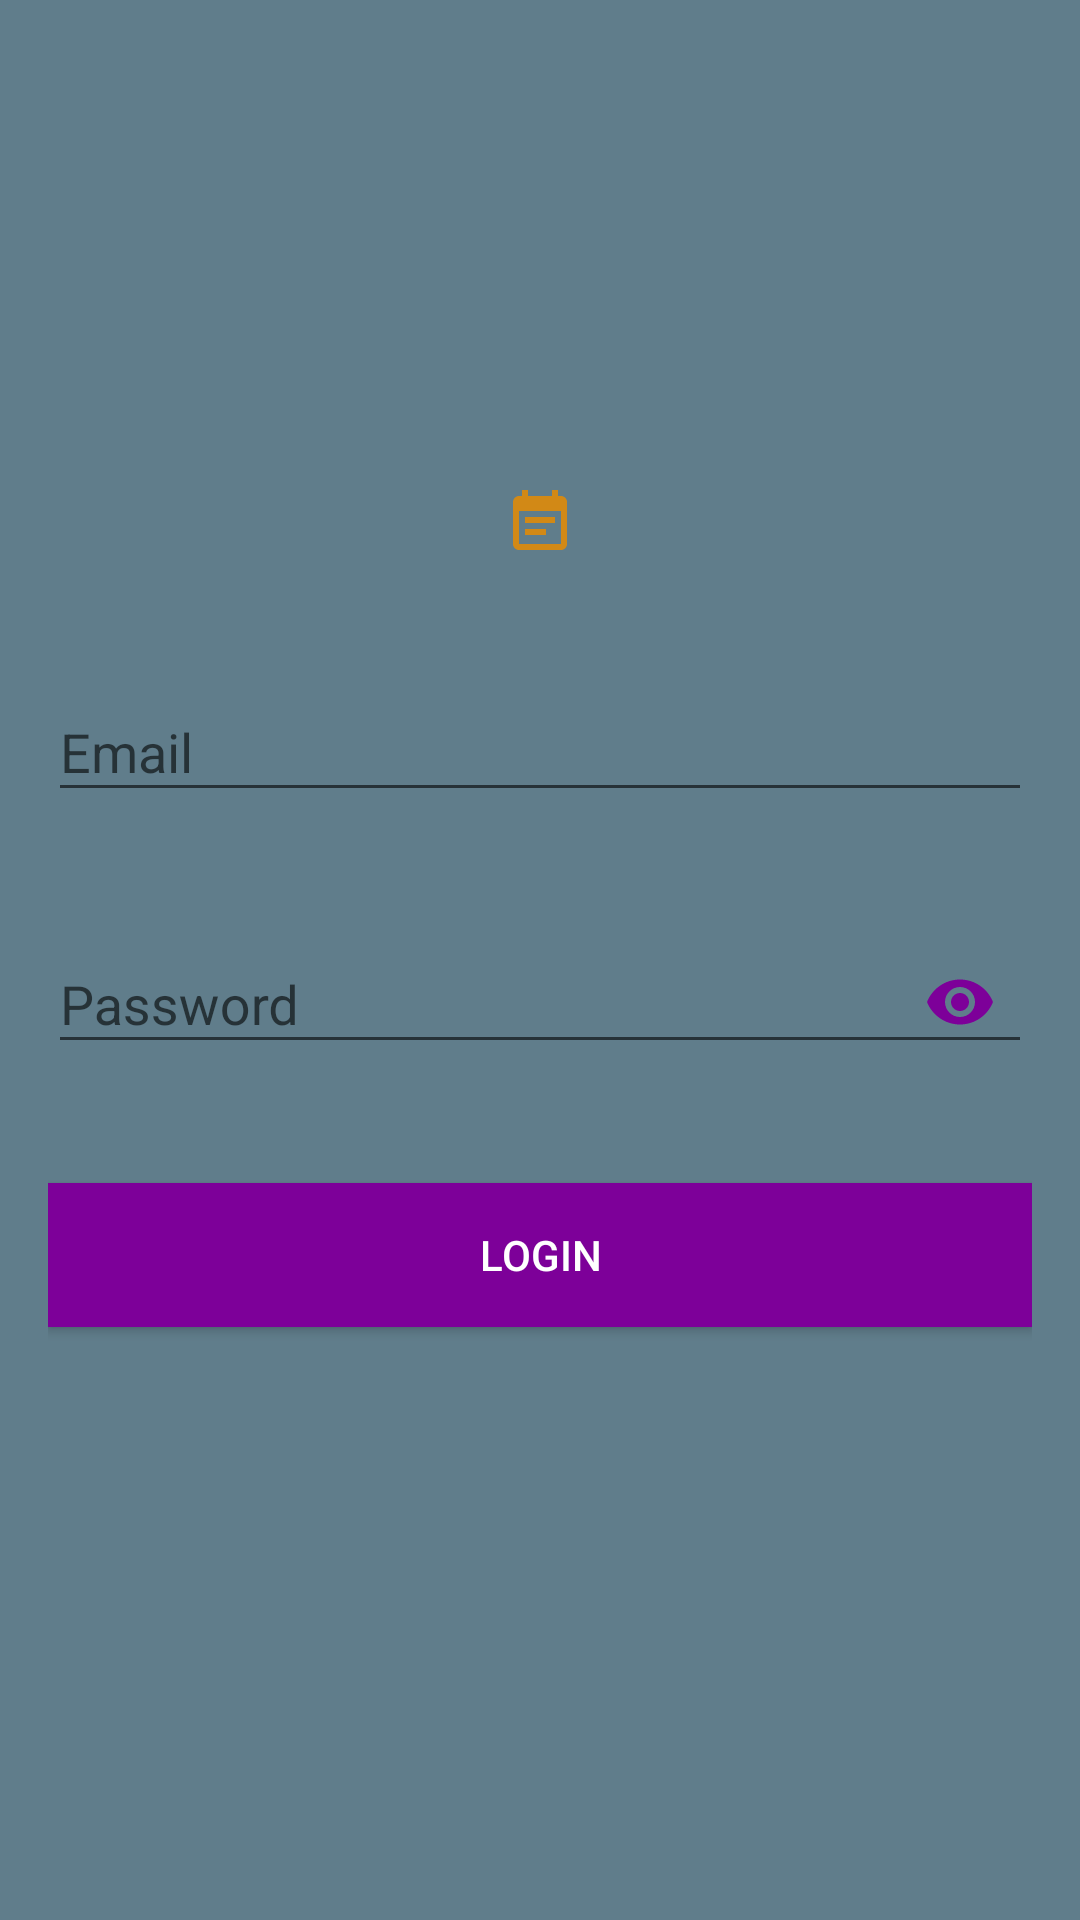

Point at icon controls on the screen. Image size 1080px×1920px, points as (x=x, y=y).
event note: (x=540, y=520)
